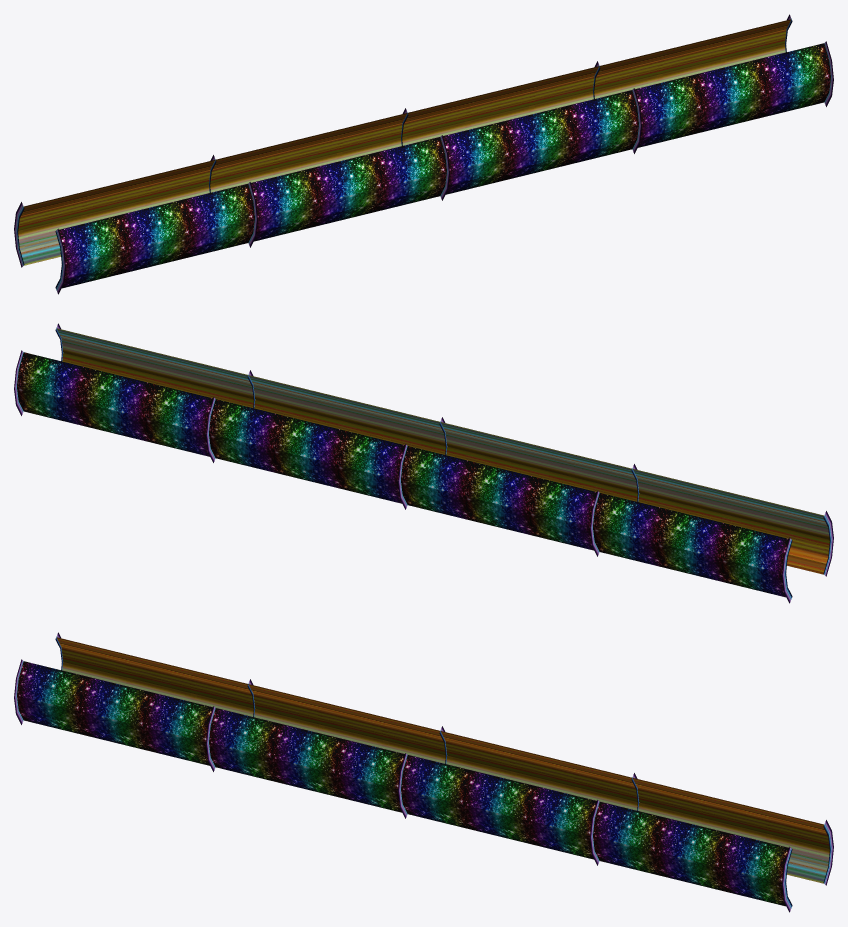
Rendered from FooGuardShortA.fbx.
3 renders of one model, top to bottom at view 1: azimuth 30°, elevation 25°; view 2: azimuth 150°, elevation 25°; view 3: azimuth 330°, elevation 25°, orthographic.
Visible parts, largest first — view 1: FooGuardShortA; view 2: FooGuardShortA; view 3: FooGuardShortA.
Part boxes in pixels (box(x1,y1,x2,y2)): FooGuardShortA: box(14, 14, 833, 294); FooGuardShortA: box(14, 323, 833, 603); FooGuardShortA: box(14, 632, 833, 912).
Bounding box in the file's own units: 2649848 × 219682 × 310677.
